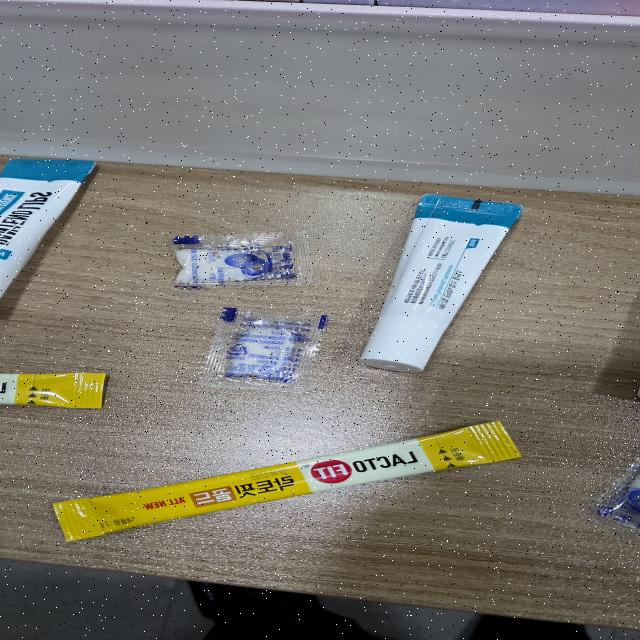lacto: (38, 416, 526, 550), (0, 369, 112, 414)
lib: (359, 196, 532, 372), (0, 157, 96, 325)
salt: (198, 308, 335, 396), (159, 226, 310, 295), (590, 456, 640, 532)
